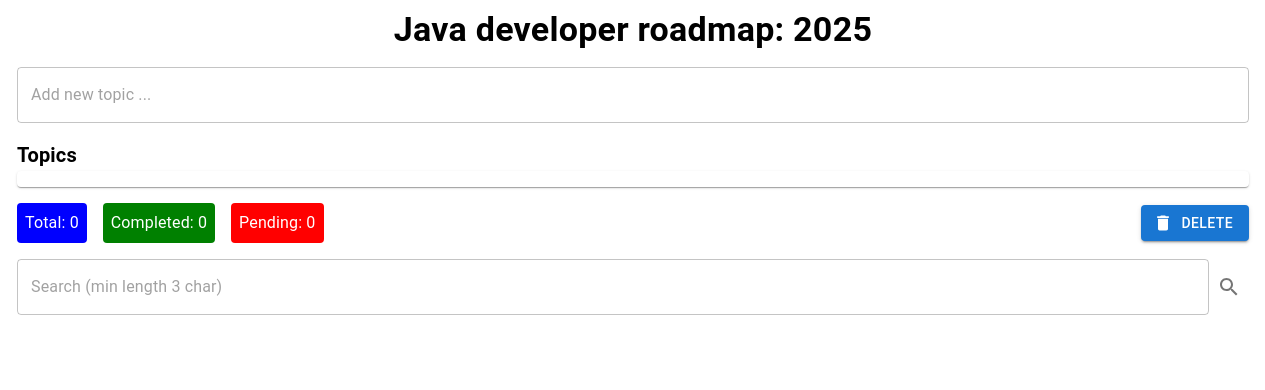
TodoApp Component › completed items can be deleted
The width and height of the screenshot is (1265, 390).
Type "Task 1" into the field with placeholder "Add new topic ...".
click(633, 95); type("Task 1")  # box 17,67 -> 1249,123
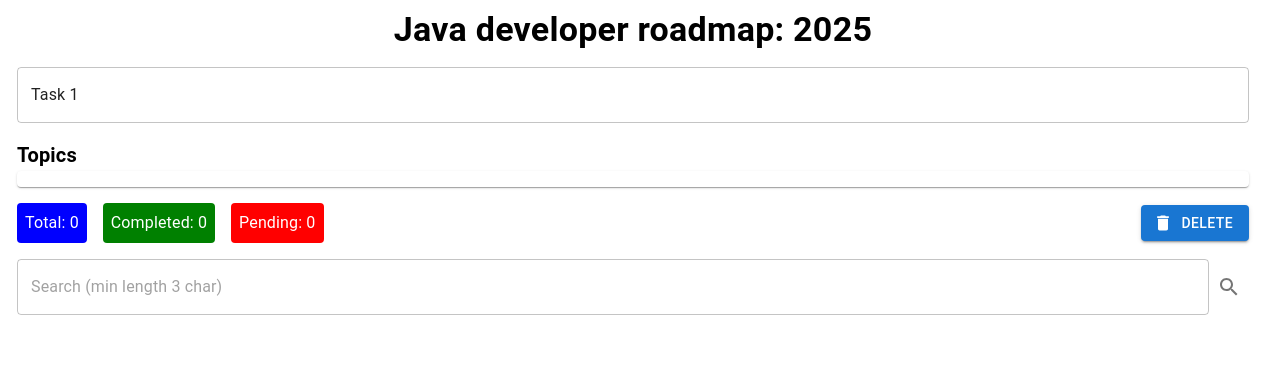
Press Enter in the field with placeholder "Add new topic ...", box 17,67 -> 1249,123
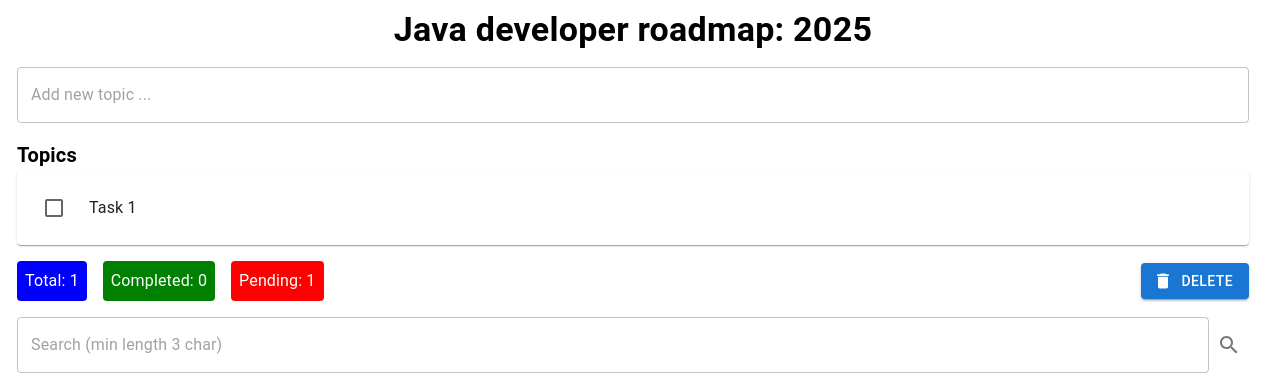
Click the checkbox.
click(54, 208)  # box 42,196 -> 66,220
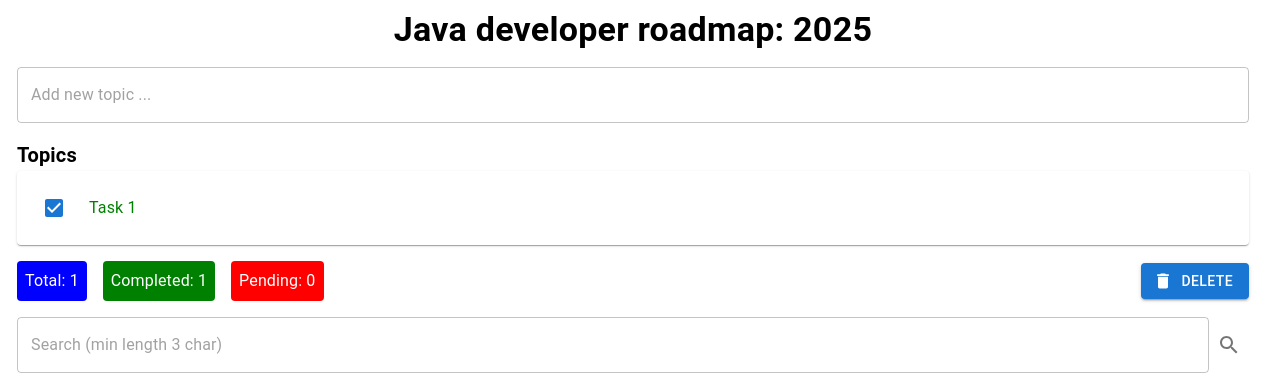
Click the button "DELETE".
click(1195, 281)  # box 1142,263 -> 1249,299
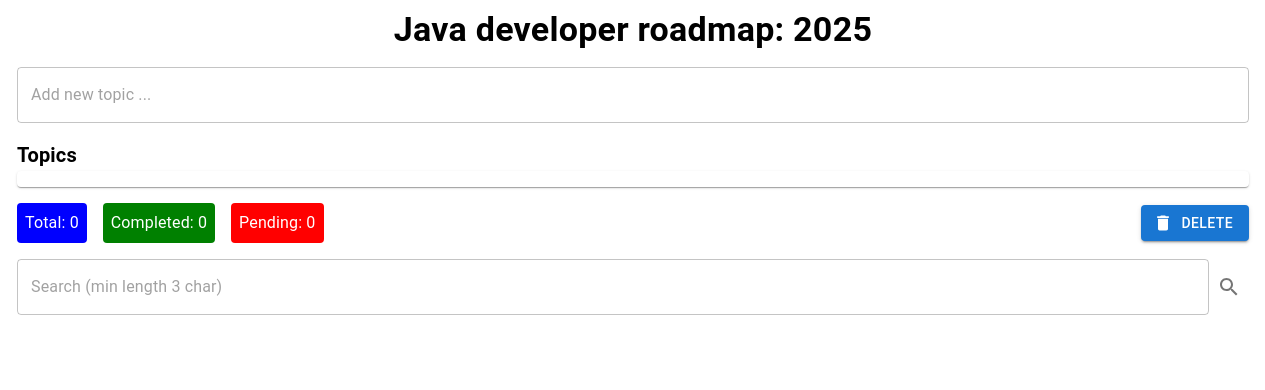
Check: the button "Task 1" is gone
